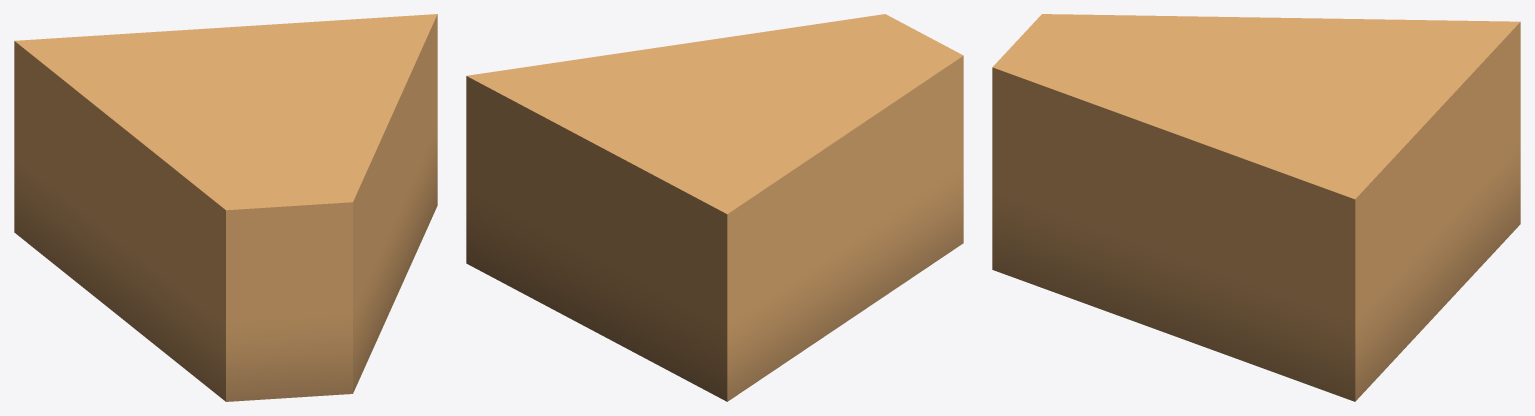
The model's file is PlatTri01.020.glb.
3 views of the same model, side by side, from view 1: azimuth 30°, elevation 25°; view 2: azimuth 150°, elevation 25°; view 3: azimuth 270°, elevation 25° (orthographic). The views are drawn at different scales.
Visible parts, largest first — view 1: PlatTri01.020; view 2: PlatTri01.020; view 3: PlatTri01.020.
Part boxes in pixels (left/top/right/bottom): PlatTri01.020: left=14, top=14, right=437, bottom=401; PlatTri01.020: left=466, top=14, right=963, bottom=401; PlatTri01.020: left=992, top=14, right=1520, bottom=401.
Size of what is drawn, in the model's own units: 2.26 by 1.15 by 2.73.
1 material, 1 textured.
